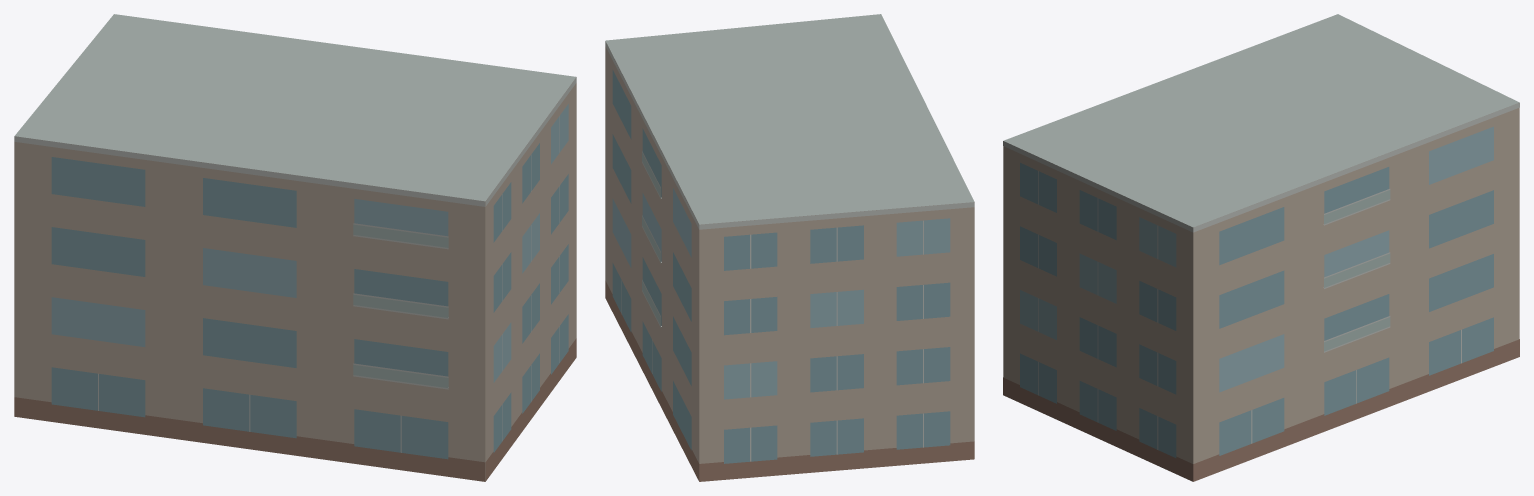
The model's file is survey-upis-32772403.glb.
The picture shows the model from 3 angles, left to right: view 1: azimuth 30°, elevation 25°; view 2: azimuth 150°, elevation 25°; view 3: azimuth 270°, elevation 25°; orthographic projection. The views are drawn at different scales.
Visible parts, largest first — view 1: survey-upis-32772403.tmp; view 2: survey-upis-32772403.tmp; view 3: survey-upis-32772403.tmp.
Part boxes in pixels (left/top/right/bottom): survey-upis-32772403.tmp: left=14, top=14, right=576, bottom=481; survey-upis-32772403.tmp: left=605, top=14, right=974, bottom=481; survey-upis-32772403.tmp: left=1003, top=14, right=1519, bottom=481.
Bounding box in the file's own units: 21.97 × 12.2 × 22.46.
